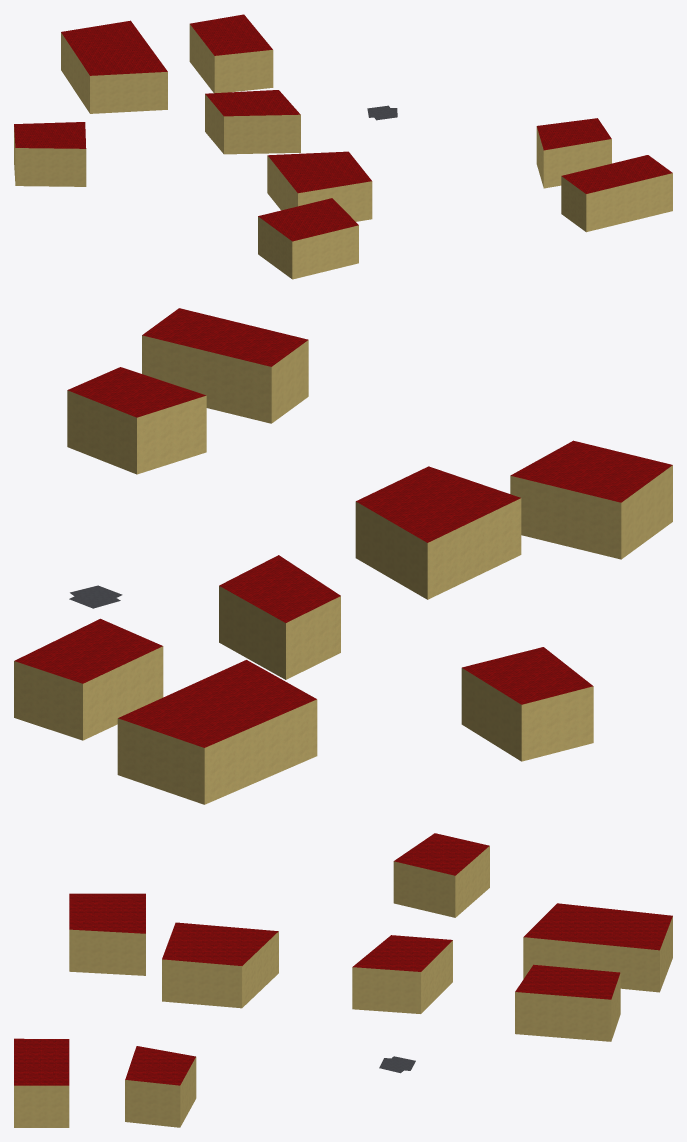
File: district_-3_-3.glb
3 renders of one model, top to bottom at view 1: azimuth 30°, elevation 25°; view 2: azimuth 150°, elevation 25°; view 3: azimuth 270°, elevation 25°, orthographic. The views are drawn at different scales.
Visible parts, largest first — view 1: Building w44036857, Building w44036739, Building w44036748, Building w625328561, Building w625328564, Building w625321739, Building w625328562, Building w625328556; view 2: Building w44036857, Building w625328564, Building w44036748, Building w44036739, Building w625321739, Building w625328562, Building w625328556, Building w625328561, RoadJunction n498693360; view 3: Building w44036857, Building w625328564, Building w625321739, Building w625328561, Building w625328562, Building w44036748, Building w625328556, Building w44036739.
Part boxes in pixels (x1,y1,x2,y2): Building w44036857: (61, 20, 167, 113); Building w44036739: (561, 155, 672, 232); Building w44036748: (258, 198, 358, 279); Building w625328561: (205, 90, 300, 154); Building w625328564: (267, 151, 372, 221); Building w625321739: (189, 14, 273, 93); Building w625328562: (14, 122, 86, 186); Building w625328556: (536, 118, 611, 188); Building w44036857: (117, 660, 317, 804); Building w625328564: (355, 466, 521, 599); Building w44036748: (510, 440, 672, 559); Building w44036739: (142, 308, 308, 423); Building w625321739: (14, 618, 163, 740); Building w625328562: (461, 647, 593, 761); Building w625328556: (67, 367, 206, 474); Building w625328561: (219, 555, 340, 679); RoadJunction n498693360: (69, 585, 122, 608); Building w44036857: (523, 903, 672, 992); Building w625328564: (162, 922, 278, 1008); Building w625321739: (515, 964, 620, 1041); Building w625328561: (352, 935, 452, 1013); Building w625328562: (393, 833, 489, 917); Building w44036748: (69, 893, 145, 975); Building w625328556: (125, 1046, 196, 1127); Building w44036739: (14, 1038, 69, 1127).
Bounding box in the file's own units: 96.4 × 7.5 × 106.
3 materials, 3 textured.
